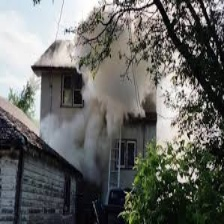smoke: (63, 21, 152, 168)
